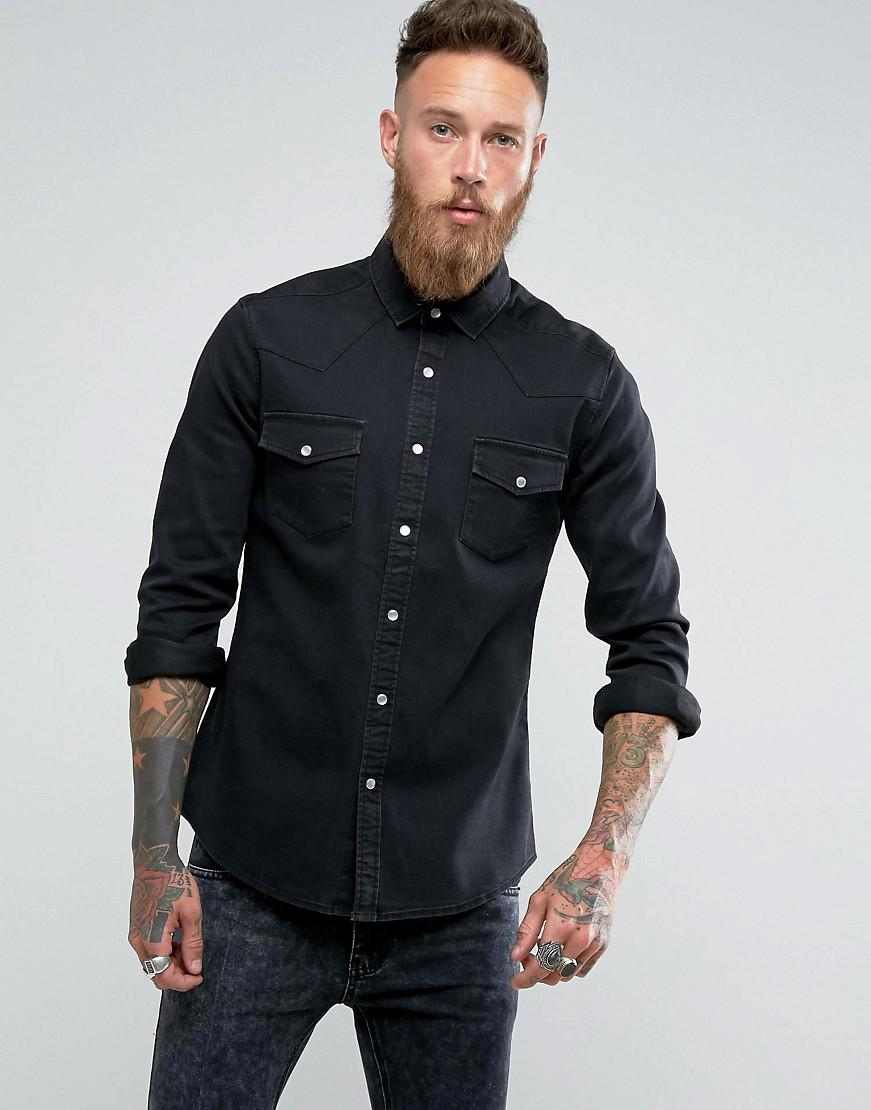teeshirt: (125, 227, 700, 922)
